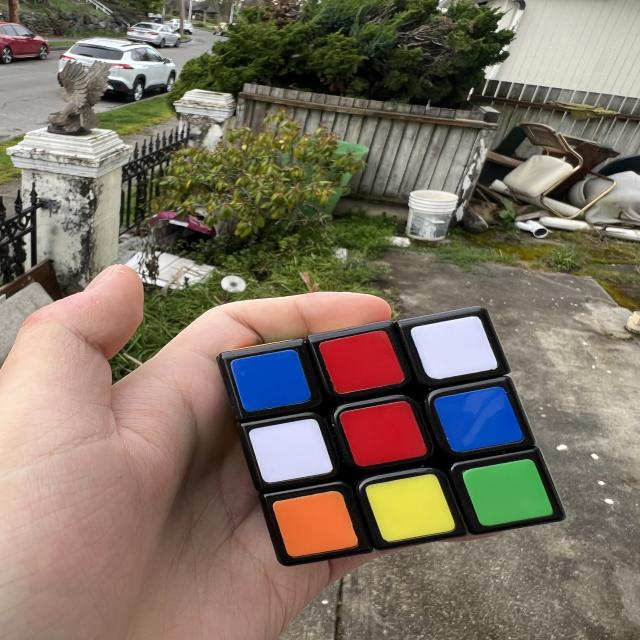blue: (432, 383, 524, 456), (229, 347, 312, 414)
center: (338, 397, 429, 470)
green: (461, 455, 554, 530)
orange: (272, 488, 359, 560)
red: (317, 327, 406, 396)
white: (410, 313, 498, 383), (248, 415, 333, 486)
yellow: (364, 470, 456, 546)
